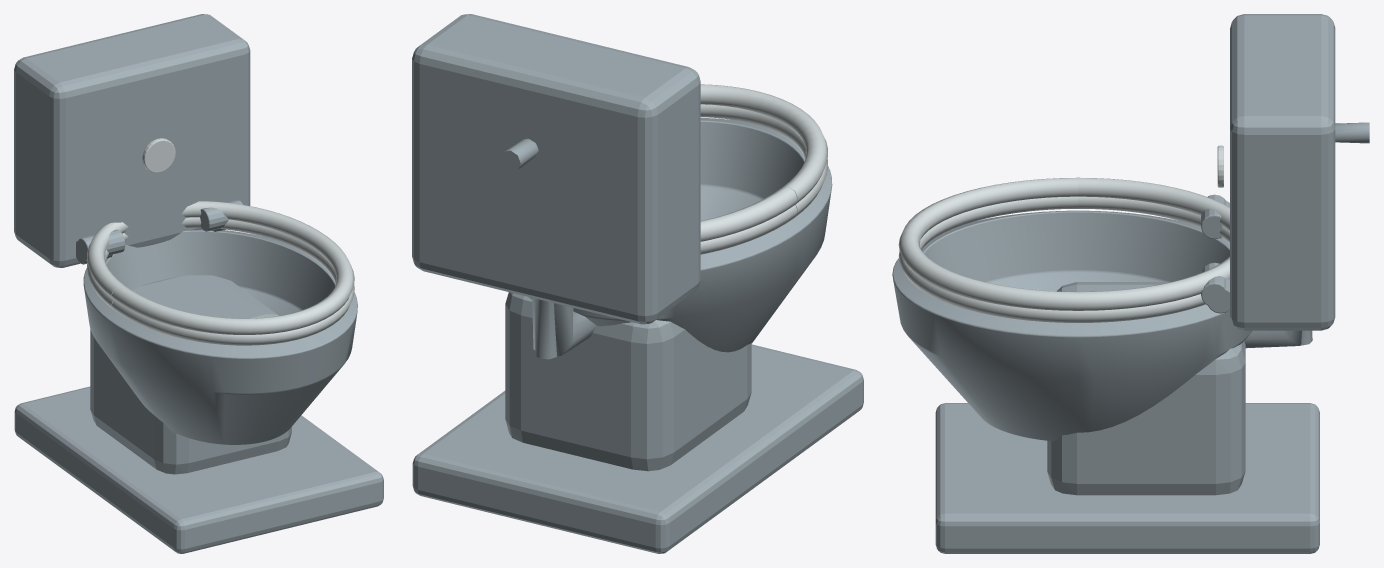
File: SF_CompactToilet.fbx
The picture shows the model from 3 angles, left to right: view 1: azimuth 30°, elevation 25°; view 2: azimuth 150°, elevation 25°; view 3: azimuth 270°, elevation 25°; orthographic projection. The views are drawn at different scales.
Visible parts, largest first — view 1: SF_CompactToilet; view 2: SF_CompactToilet; view 3: SF_CompactToilet.
Boxes of the visible parts, bbox=[...] form: SF_CompactToilet: bbox=[14, 14, 383, 553]; SF_CompactToilet: bbox=[412, 14, 863, 553]; SF_CompactToilet: bbox=[892, 14, 1369, 553].
Size of the model in its own units: 47.95 by 77 by 76.97.
